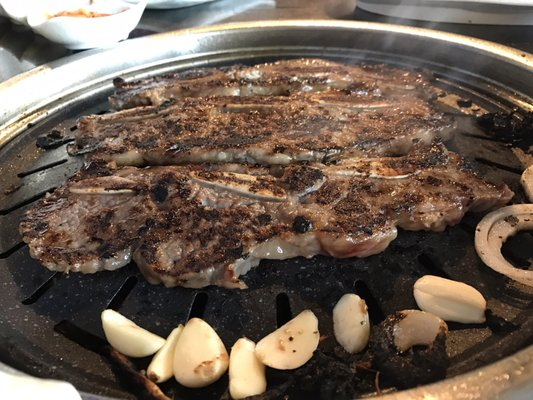sushi: (0, 0, 149, 50)
